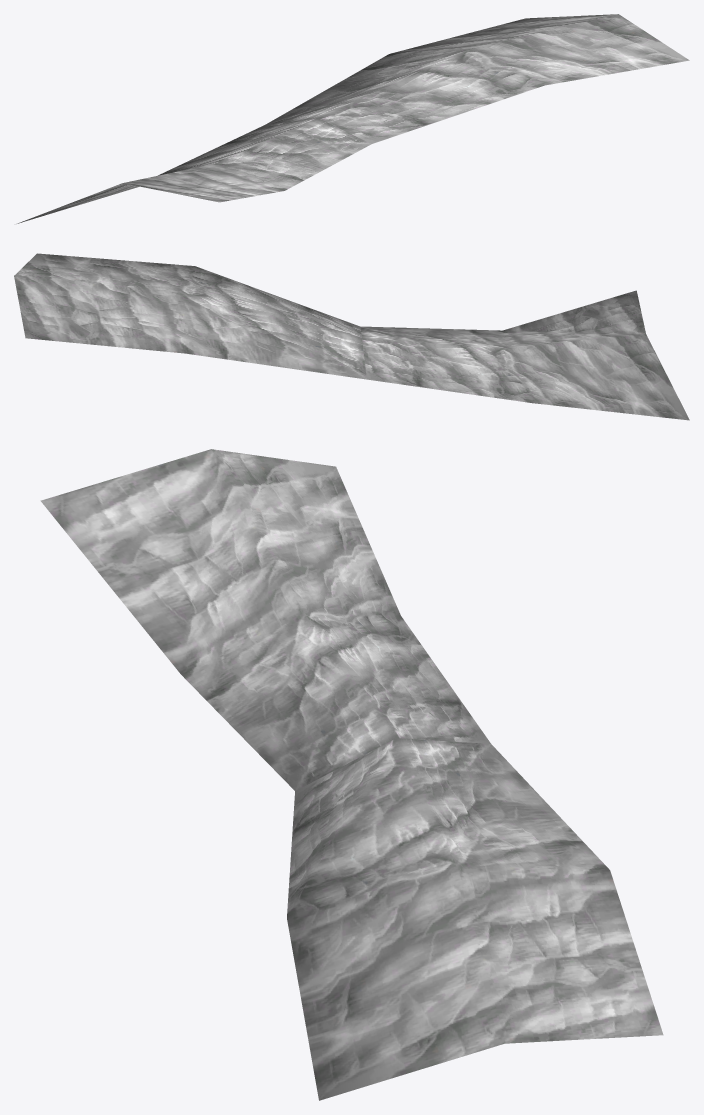
File: SWORDLIGHT20_PS-AREA03_44.fbx
The picture shows the model from 3 angles, top to bottom: view 1: azimuth 30°, elevation 25°; view 2: azimuth 150°, elevation 25°; view 3: azimuth 270°, elevation 25°; orthographic projection. The views are drawn at different scales.
Visible parts, largest first — view 1: SWORDLIGHT20_PS-AREA03_44; view 2: SWORDLIGHT20_PS-AREA03_44; view 3: SWORDLIGHT20_PS-AREA03_44.
Boxes of the visible parts, x1=… form: SWORDLIGHT20_PS-AREA03_44: x1=17, y1=14, x2=689, y2=223; SWORDLIGHT20_PS-AREA03_44: x1=14, y1=253, x2=689, y2=420; SWORDLIGHT20_PS-AREA03_44: x1=40, y1=449, x2=663, y2=1100.
Size of the model in its own units: 176206 by 12997 by 72347.
1 material, 1 textured.
